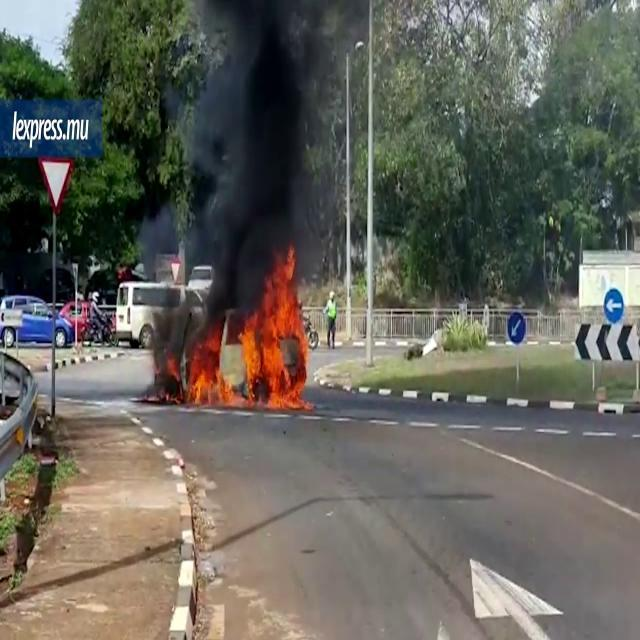Fire: (184, 260, 314, 413)
Smoke: (172, 1, 331, 305)
